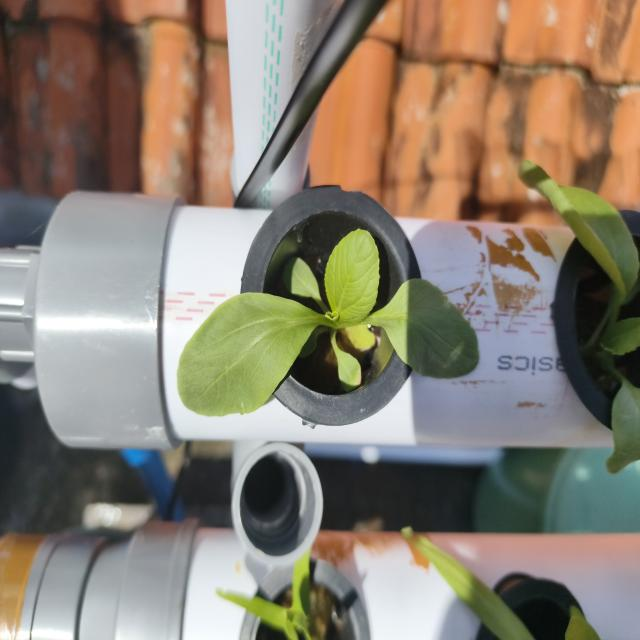daun-pakcoy: (177, 293, 332, 416), (372, 279, 479, 378), (325, 229, 379, 327), (283, 258, 329, 313), (327, 331, 362, 392), (342, 324, 376, 351)
